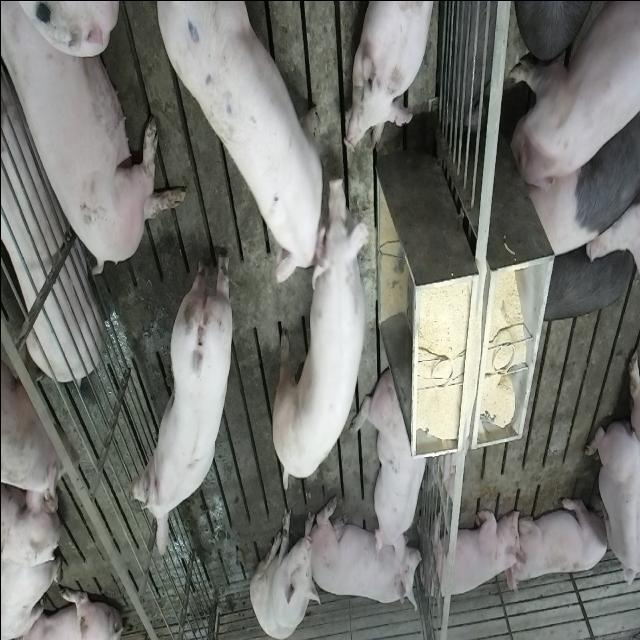Lateral_lying: (4, 4, 188, 278), (0, 62, 102, 383)
Sitting: (249, 502, 318, 637)
Standing: (154, 0, 326, 280), (126, 240, 232, 556), (266, 187, 366, 493), (505, 0, 637, 194), (522, 100, 638, 260), (0, 275, 73, 518), (532, 241, 634, 326)
Sternal_lying: (346, 0, 436, 152), (362, 366, 431, 558), (313, 506, 422, 612), (426, 502, 524, 601), (510, 491, 610, 588), (584, 416, 637, 597)
